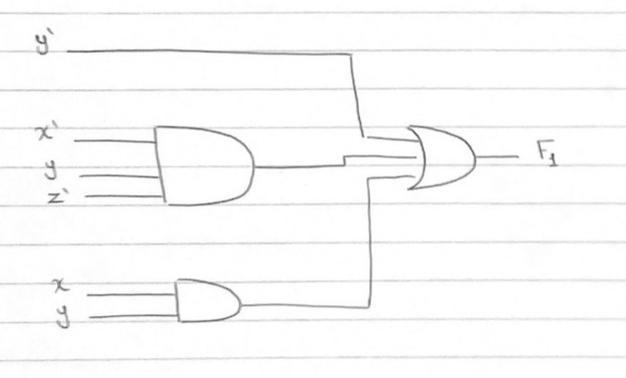AND: (141, 116, 267, 216), (167, 272, 252, 336)
OR: (399, 116, 489, 206)
